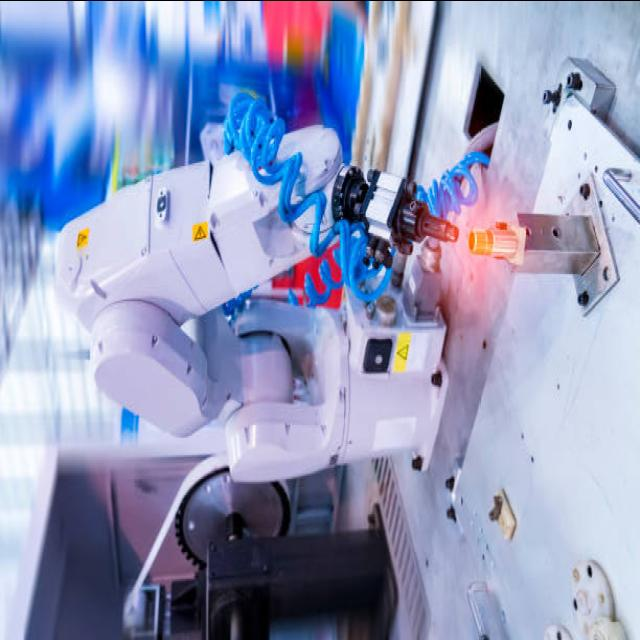Robotic-arm: (56, 113, 450, 486)
